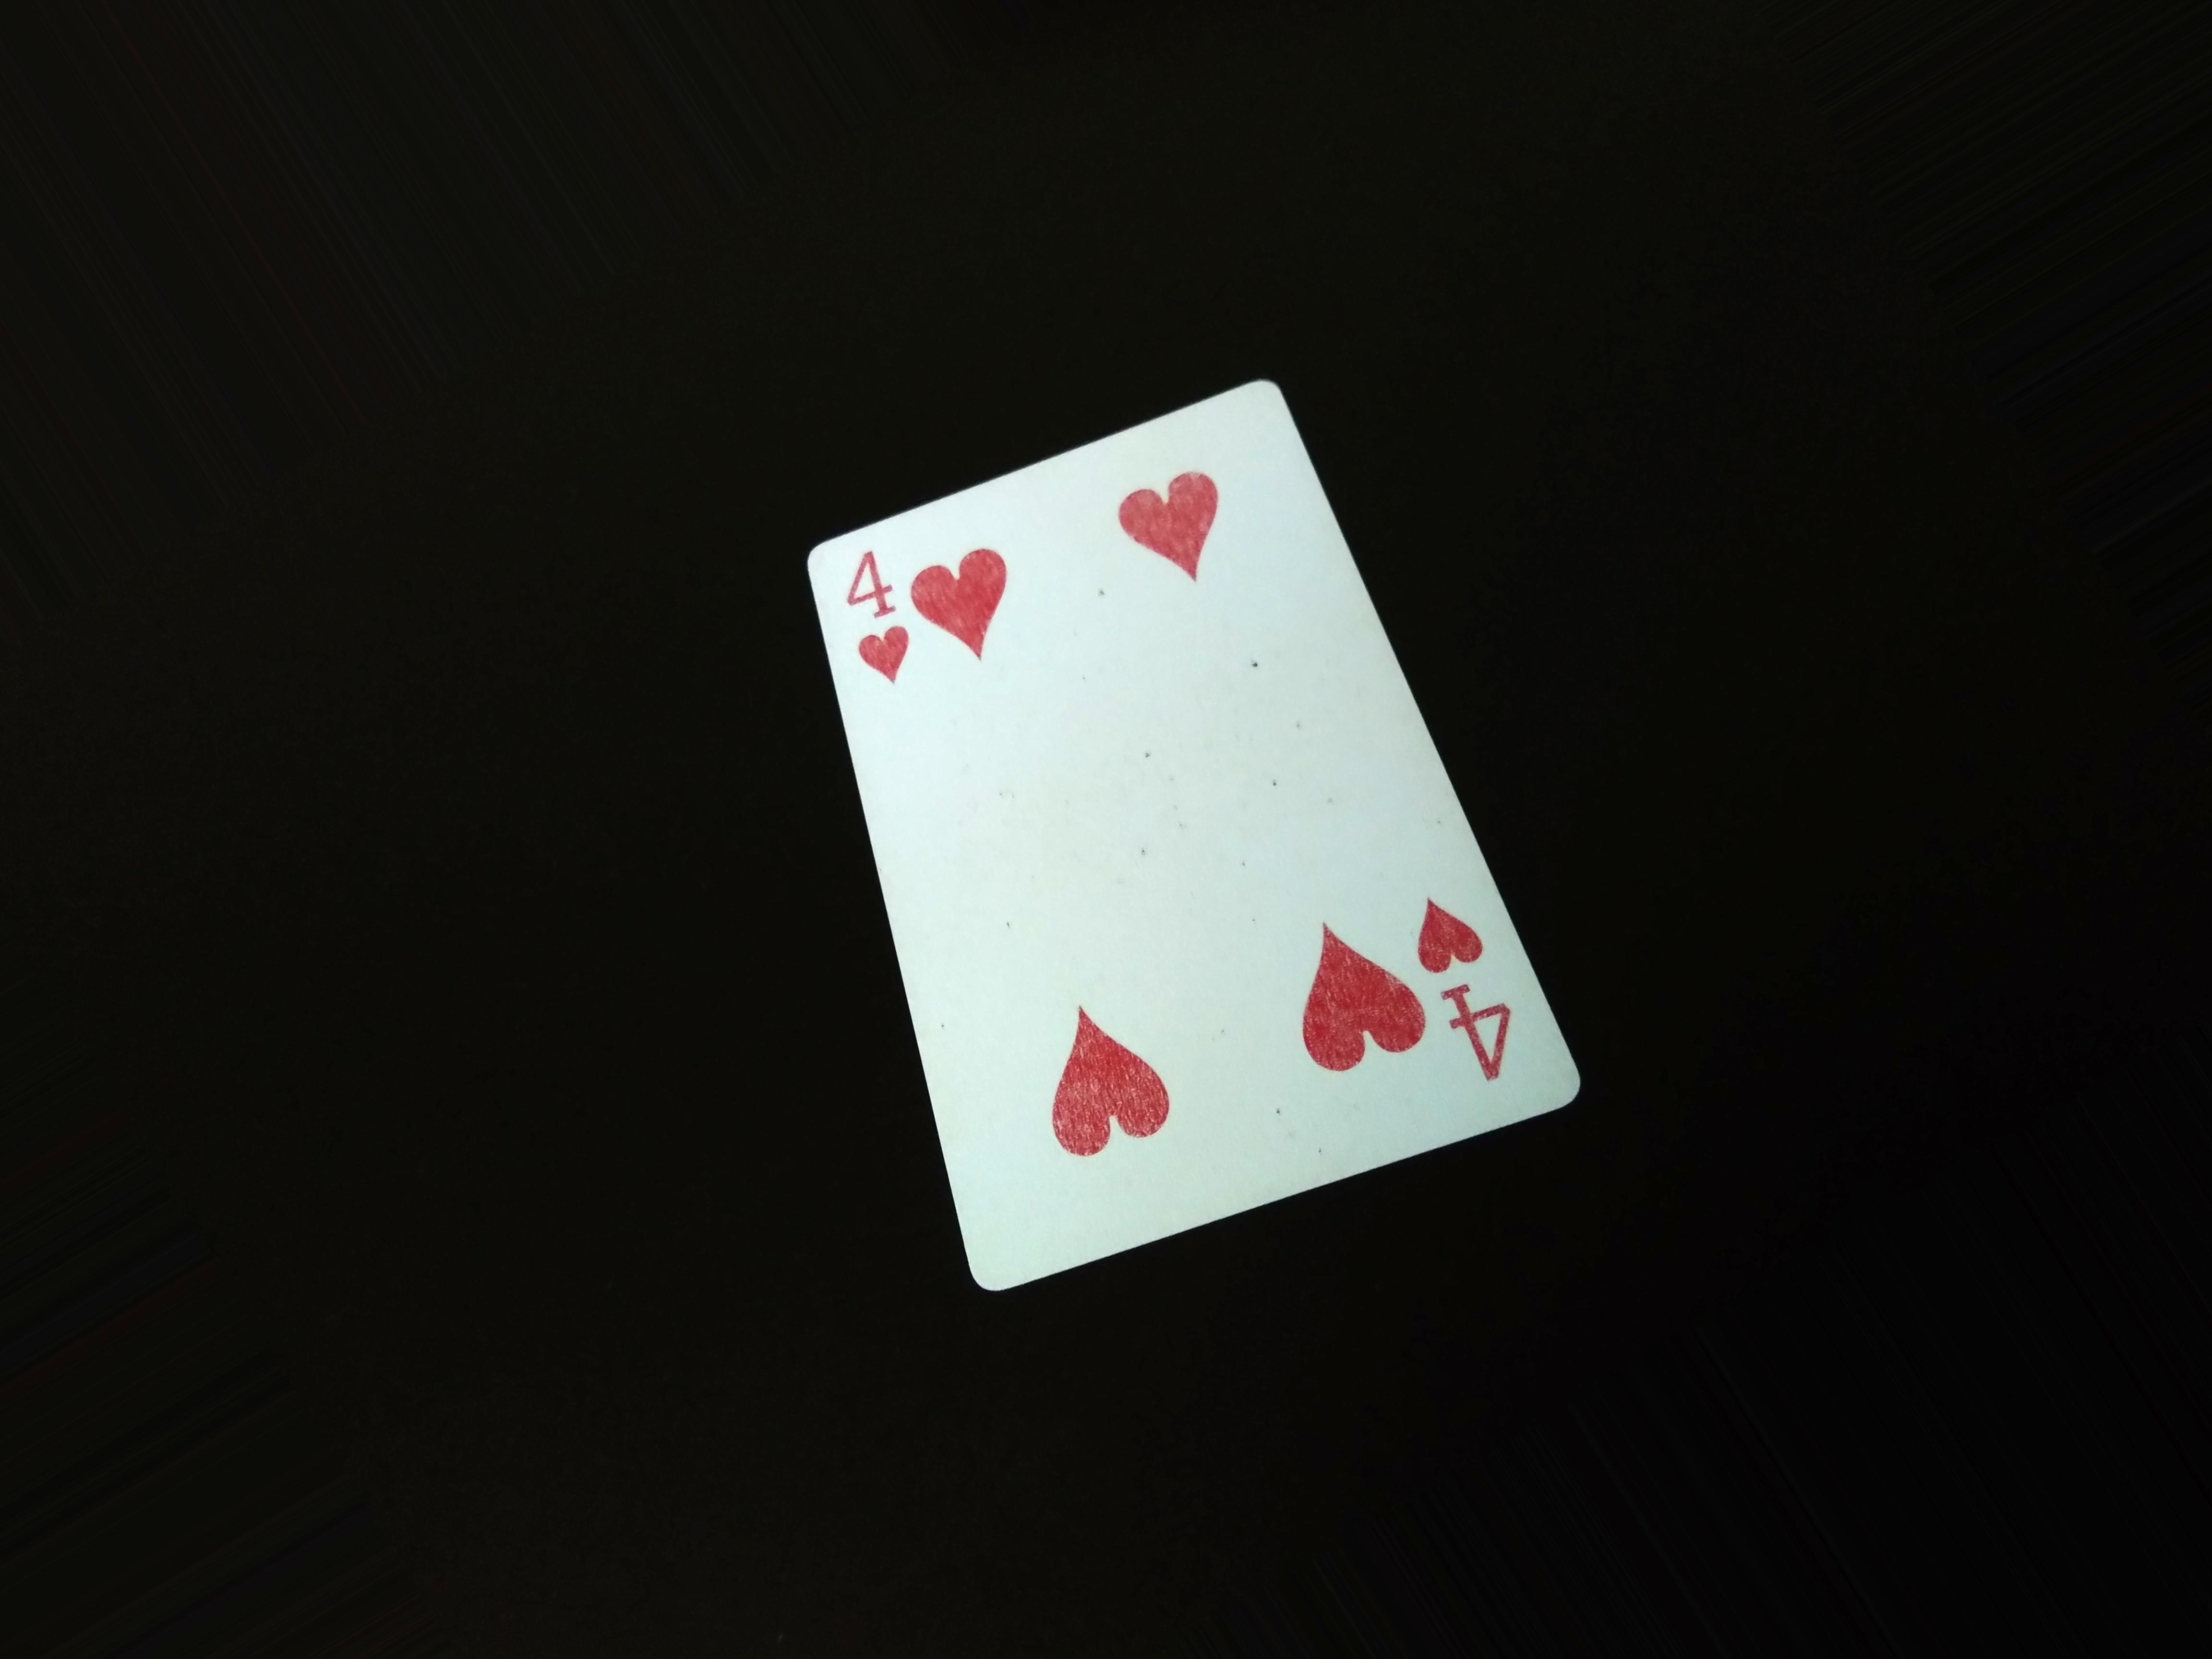4H: (1416, 884, 1517, 1093)
